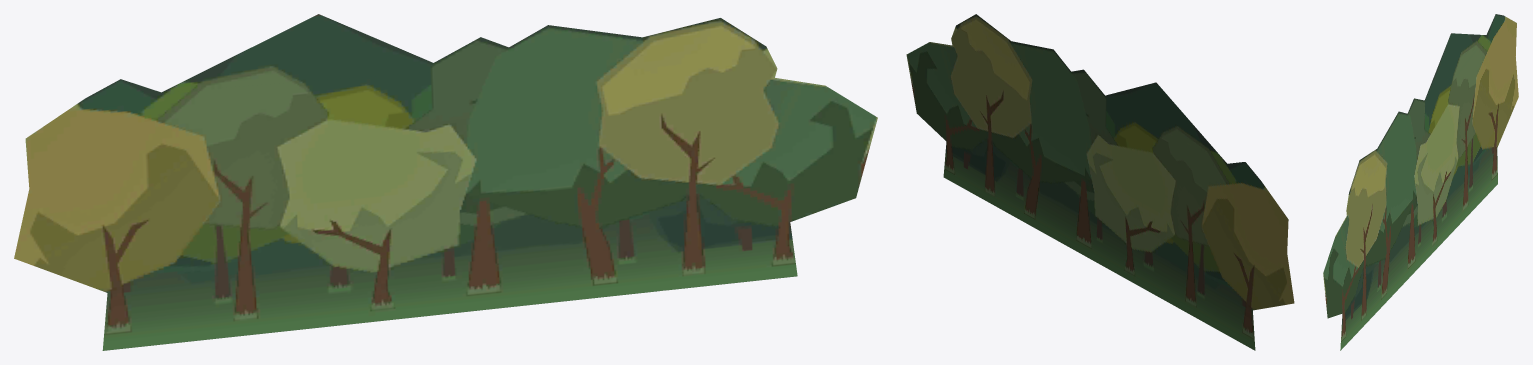
Rendered from Trees_1.fbx.
3 renders of one model, left to right at view 1: azimuth 30°, elevation 25°; view 2: azimuth 150°, elevation 25°; view 3: azimuth 270°, elevation 25°, orthographic. The views are drawn at different scales.
Visible parts, largest first — view 1: Trees_1; view 2: Trees_1; view 3: Trees_1.
Part boxes in pixels (x1,y1,x2,y2): Trees_1: [14, 14, 877, 350]; Trees_1: [906, 14, 1294, 350]; Trees_1: [1323, 14, 1518, 350].
Bounding box in the file's own units: 26.29 × 11.25 × 9.6.
